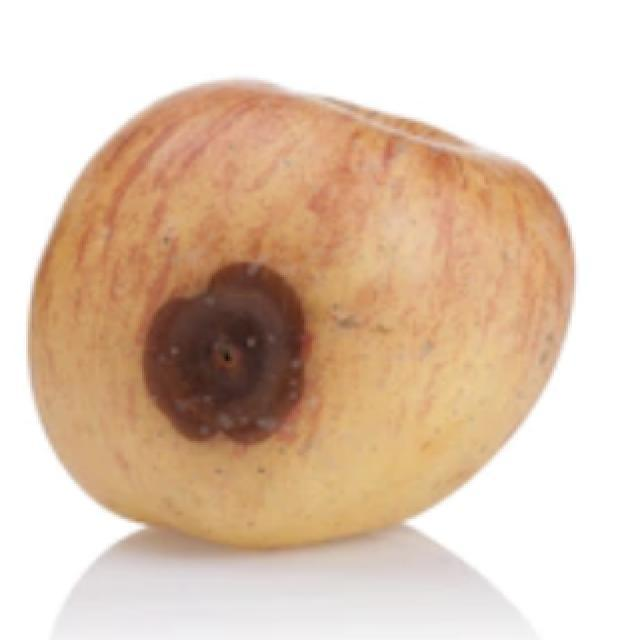Rotten: (48, 90, 562, 532)
